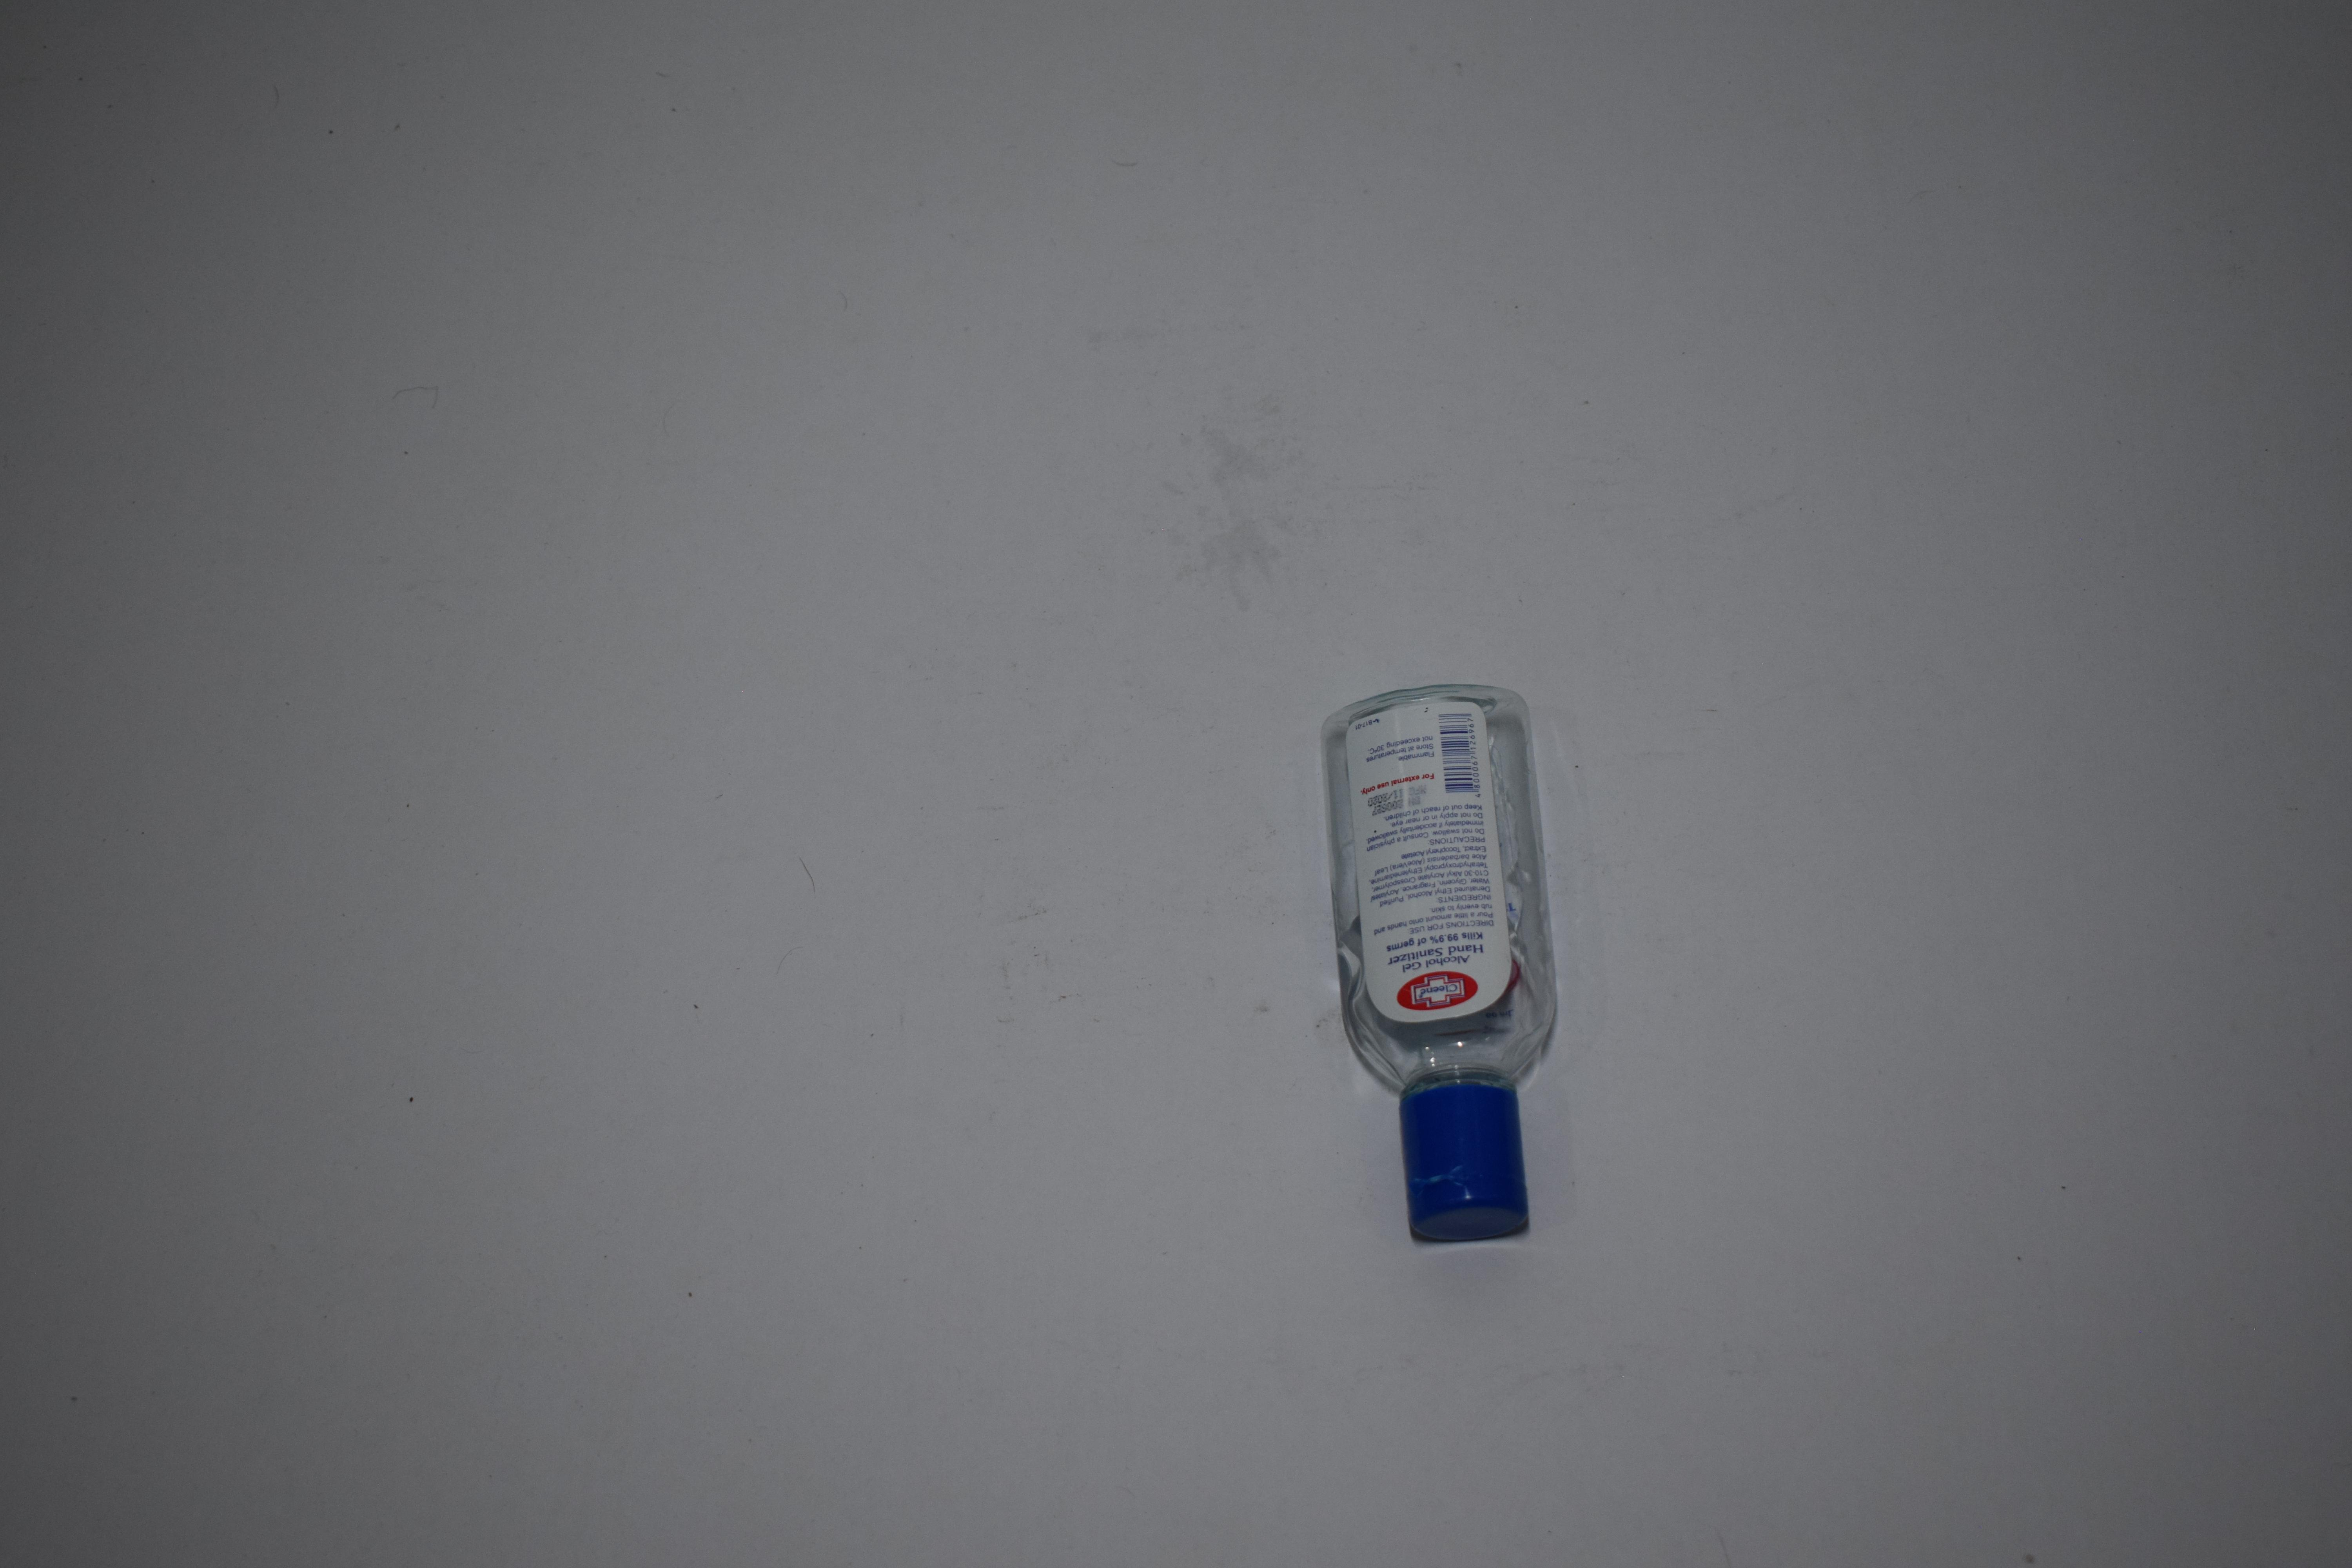bottle: (1318, 674, 1568, 1249)
